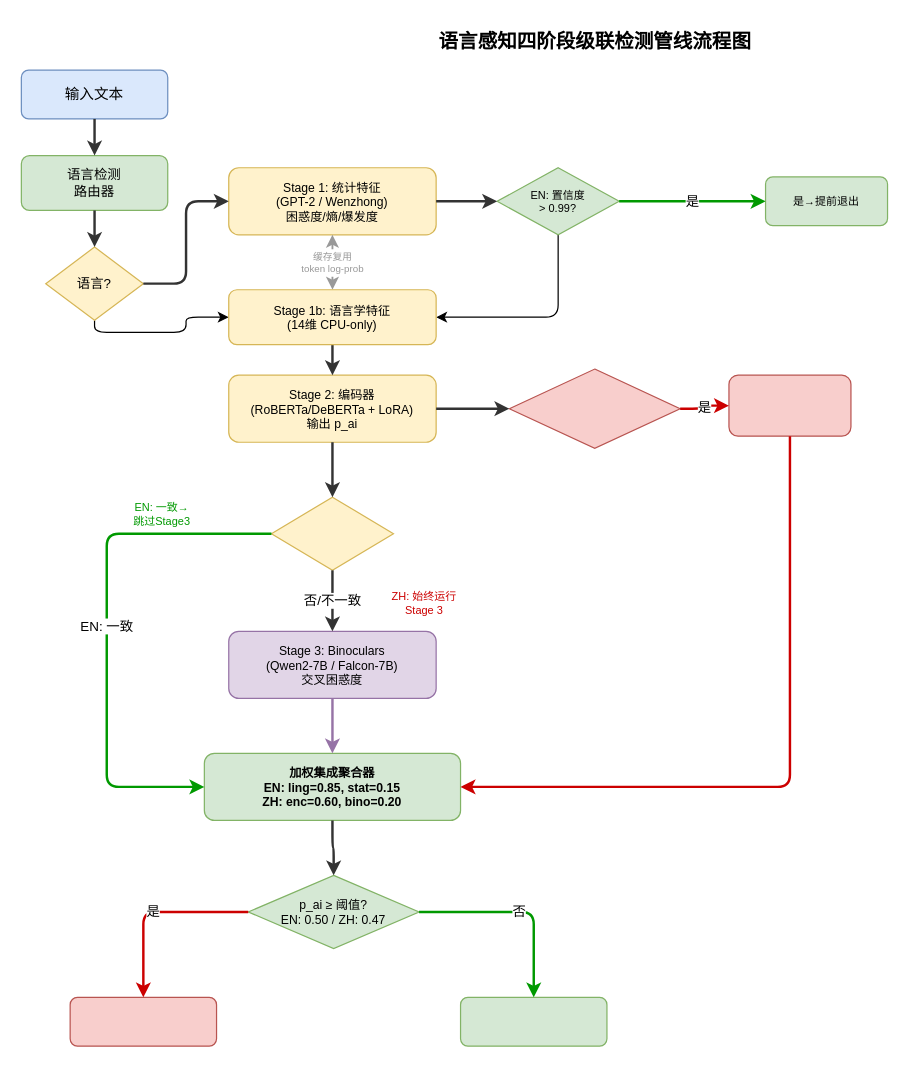
Image size: 921x1068. Some labels were removed from this diagram. Each missing label, with the centre of its shape:
AI 生成: (143,1021)
Stage 1&2 一致?: (331,533)
ZH 仲裁块 stat=人类 且 enc p_ai ≥ 0.35?: (594,408)
人类撰写: (533,1021)
是 → 仅用 编码器决策: (789,405)
